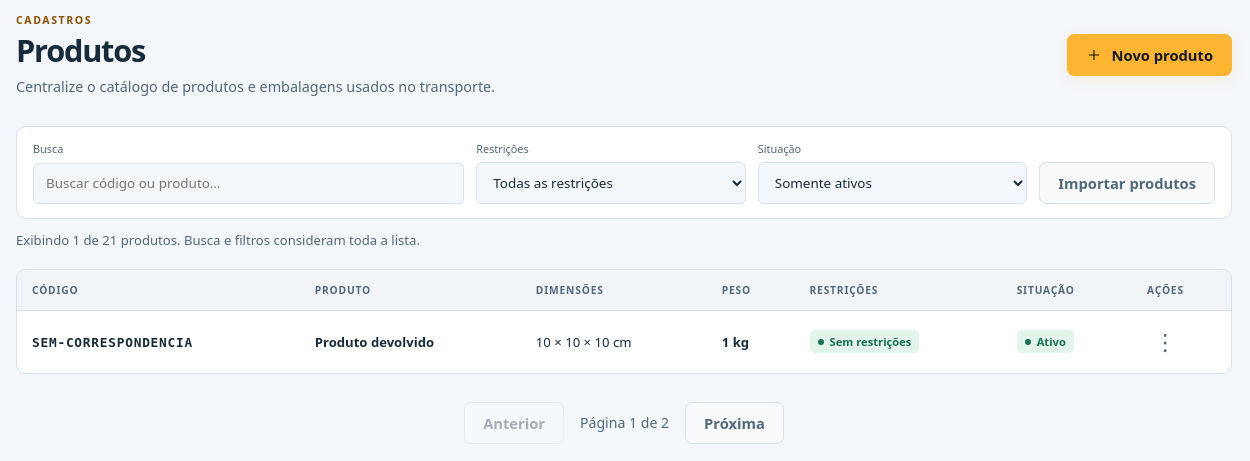
OC95 products › mostra vazio filtrado quando o servidor devolve zero resultados
Check: the text "SEM-CORRESPONDENCIA" is shown, box 32,335 -> 193,350
In the search field named "Buscar por código ou nome": (249, 183) 33,163 -> 464,204, type "não encontrado"
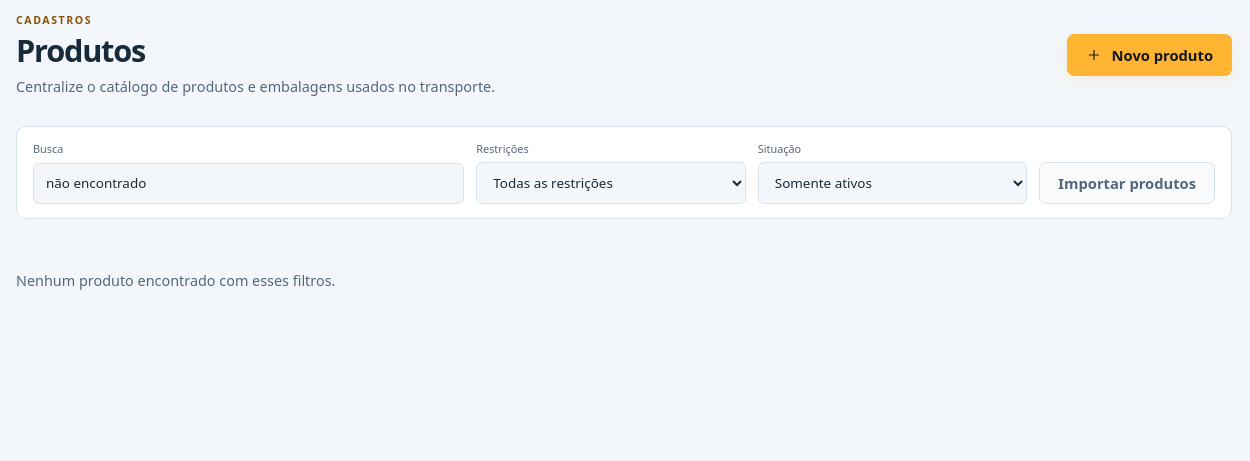
Check: the text "Nenhum produto encontrado com esses filtros." is shown, box 16,271 -> 335,290
Check: the text "SEM-CORRESPONDENCIA" is gone
